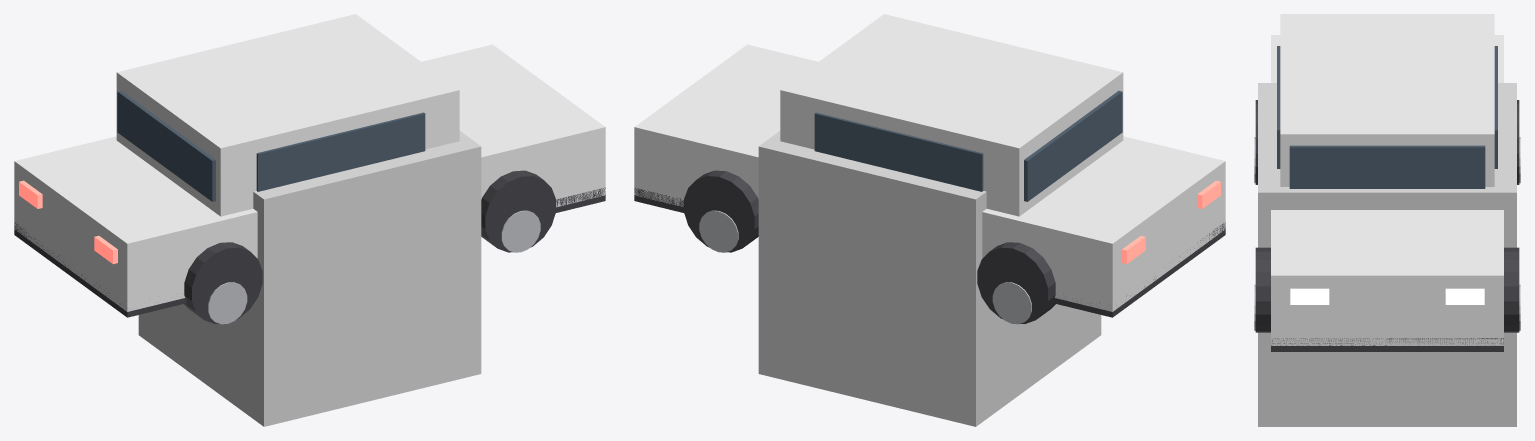
File: car.glb
The picture shows the model from 3 angles, left to right: view 1: azimuth 30°, elevation 25°; view 2: azimuth 150°, elevation 25°; view 3: azimuth 270°, elevation 25°; orthographic projection. The views are drawn at different scales.
Visible parts, largest first — view 1: Cube, Cube.001, Cube.002, Cube.006, Cube.004, Cylinder, Cylinder.004, Cube.007, Cylinder.005, Cylinder.001; view 2: Cube, Cube.001, Cube.002, Cube.005, Cube.004, Cylinder.002, Cylinder.006, Cube.007, Cylinder.007, Cylinder.003; view 3: Cube.001, Cube, Cube.002, Cube.003, Cube.007, Cylinder.004, Cylinder.006, Cube.008, Cube.010, Cube.005, Cube.006.
Boxes of the visible parts, left/top/right/bottom form: Cube: left=138, top=131, right=481, bottom=426; Cube.001: left=14, top=44, right=605, bottom=311; Cube.002: left=116, top=14, right=459, bottom=216; Cube.006: left=256, top=112, right=425, bottom=191; Cube.004: left=117, top=90, right=215, bottom=201; Cylinder: left=184, top=242, right=262, bottom=323; Cylinder.004: left=481, top=170, right=555, bottom=252; Cube.007: left=14, top=187, right=605, bottom=317; Cylinder.005: left=501, top=210, right=540, bottom=252; Cylinder.001: left=208, top=282, right=247, bottom=324; Cube: left=758, top=131, right=1101, bottom=426; Cube.001: left=634, top=44, right=1225, bottom=311; Cube.002: left=780, top=14, right=1123, bottom=216; Cube.005: left=814, top=112, right=983, bottom=191; Cube.004: left=1024, top=90, right=1122, bottom=201; Cylinder.002: left=977, top=242, right=1055, bottom=323; Cylinder.006: left=684, top=170, right=758, bottom=252; Cube.007: left=634, top=188, right=1225, bottom=317; Cylinder.007: left=699, top=210, right=738, bottom=252; Cylinder.003: left=992, top=282, right=1031, bottom=324; Cube.001: left=1271, top=35, right=1503, bottom=345; Cube: left=1258, top=83, right=1516, bottom=426; Cube.002: left=1280, top=14, right=1494, bottom=186; Cube.003: left=1289, top=145, right=1485, bottom=188; Cube.007: left=1271, top=338, right=1503, bottom=351; Cylinder.004: left=1255, top=247, right=1270, bottom=332; Cylinder.006: left=1504, top=247, right=1519, bottom=332; Cube.008: left=1290, top=288, right=1329, bottom=304; Cube.010: left=1445, top=288, right=1484, bottom=304; Cube.005: left=1494, top=46, right=1497, bottom=168; Cube.006: left=1277, top=46, right=1280, bottom=168.
Size of the model in its own units: 4.49 by 2.45 by 2.06.
